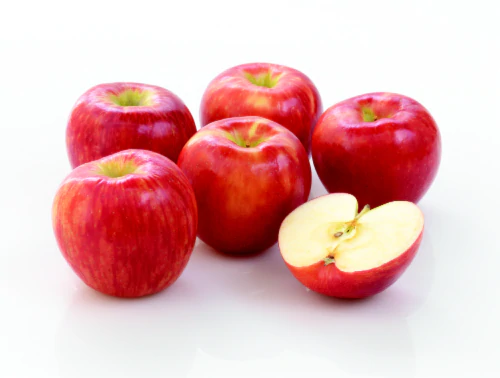apple: (54, 150, 200, 298), (183, 117, 314, 260), (313, 93, 443, 203), (70, 83, 198, 157), (203, 64, 319, 119)
